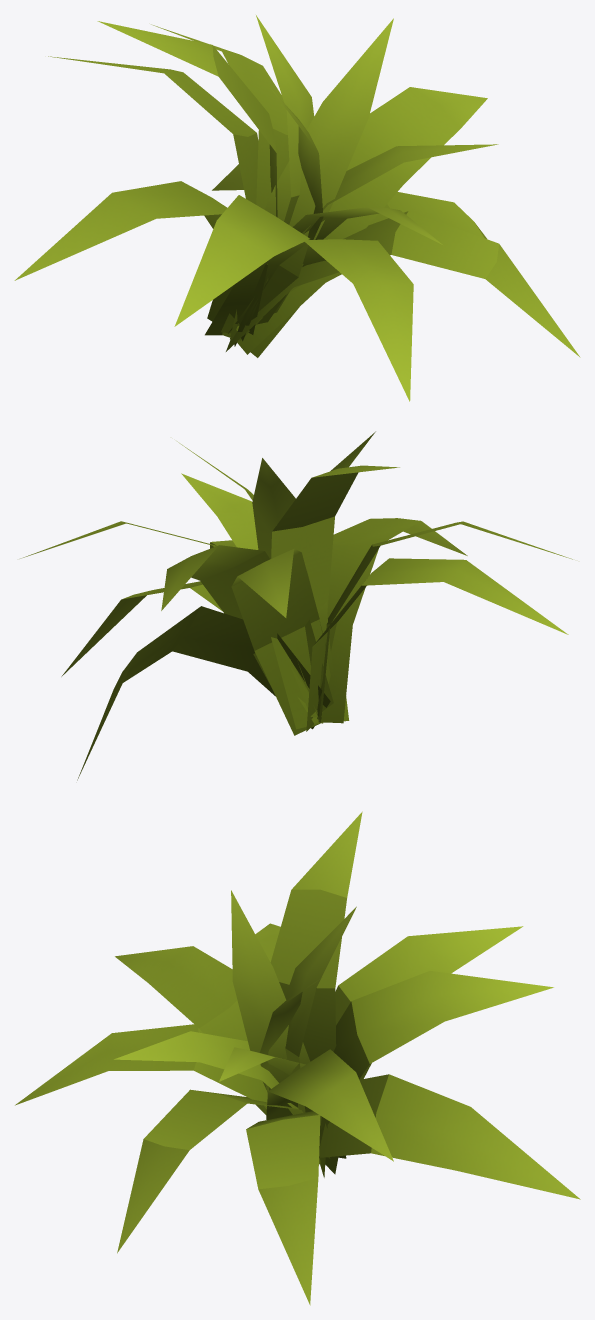
The model's file is plant.fbx.
3 renders of one model, top to bottom at view 1: azimuth 30°, elevation 25°; view 2: azimuth 150°, elevation 25°; view 3: azimuth 270°, elevation 25°, orthographic. The views are drawn at different scales.
Parts seen in each view (by area): view 1: polySurface5199; view 2: polySurface5199; view 3: polySurface5199.
Part boxes in pixels (x1,y1,x2,y2): polySurface5199: (14,15,580,401); polySurface5199: (20,431,572,780); polySurface5199: (15,811,580,1305).
Bounding box in the file's own units: 232 × 144 × 234.
1 material, 1 textured.
